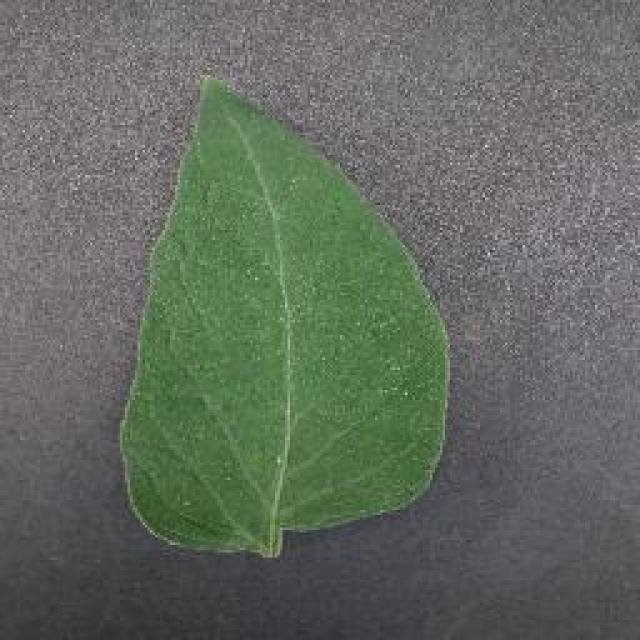healthy: (122, 79, 448, 556)
